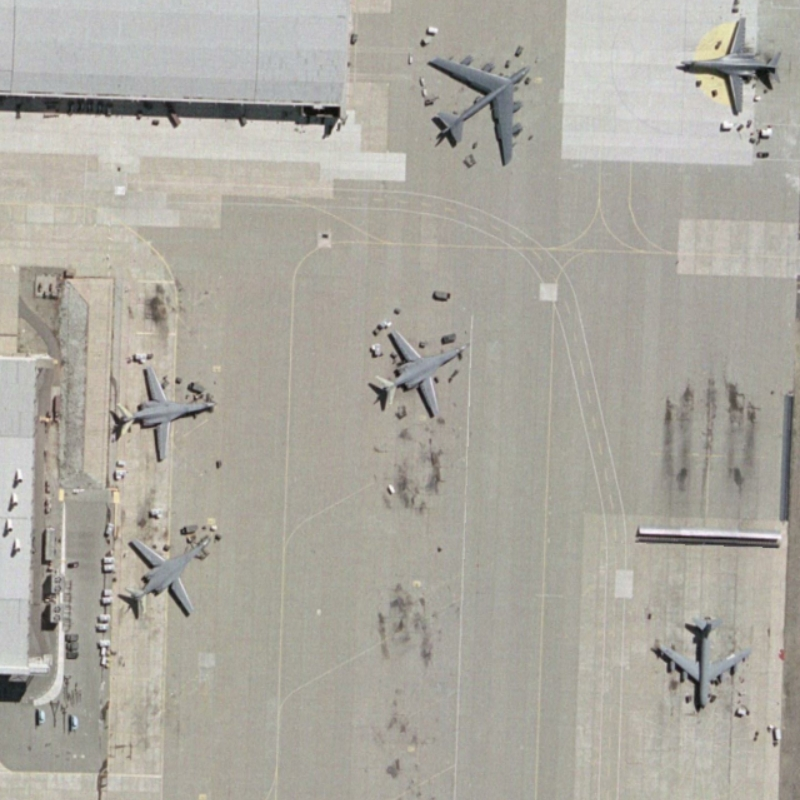A10: (671, 12, 783, 120), (108, 360, 221, 466), (370, 318, 471, 423), (114, 522, 213, 623)
A14: (647, 610, 753, 716)
A8: (426, 54, 537, 172)
